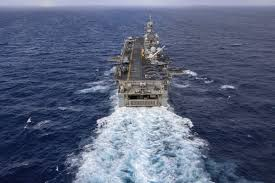Ship: (117, 20, 166, 106)
